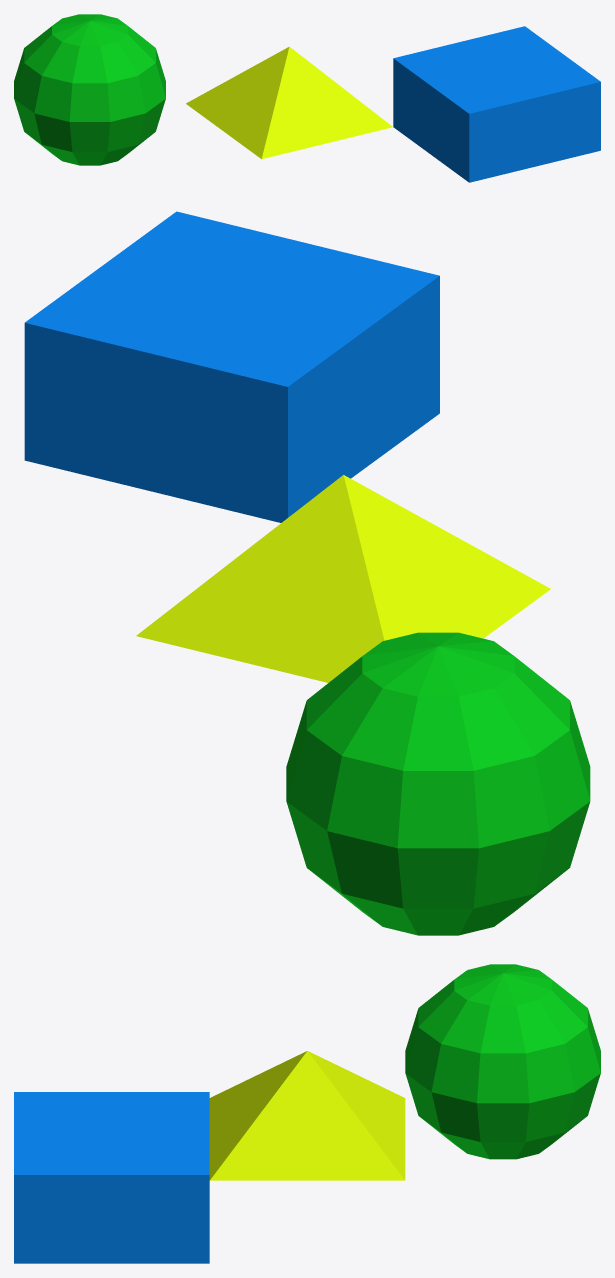
File: TESTE.gltf
The picture shows the model from 3 angles, top to bottom: view 1: azimuth 30°, elevation 25°; view 2: azimuth 150°, elevation 25°; view 3: azimuth 270°, elevation 25°; orthographic projection. The views are drawn at different scales.
Parts seen in each view (by area): view 1: cuboid, sphere, pyramid; view 2: cuboid, sphere, pyramid; view 3: cuboid, sphere, pyramid.
Boxes of the visible parts, x1=… form: cuboid: x1=393, y1=26, x2=600, y2=182; sphere: x1=14, y1=14, x2=165, y2=165; pyramid: x1=186, y1=46, x2=392, y2=159; cuboid: x1=24, y1=211, x2=439, y2=522; sphere: x1=286, y1=632, x2=590, y2=935; pyramid: x1=136, y1=475, x2=550, y2=682; cuboid: x1=14, y1=1092, x2=209, y2=1263; sphere: x1=405, y1=964, x2=600, y2=1159; pyramid: x1=209, y1=1051, x2=405, y2=1180.
Size of the model in its own units: 2.94 by 1 by 3.
Materials: 3 (3 with a texture image).
